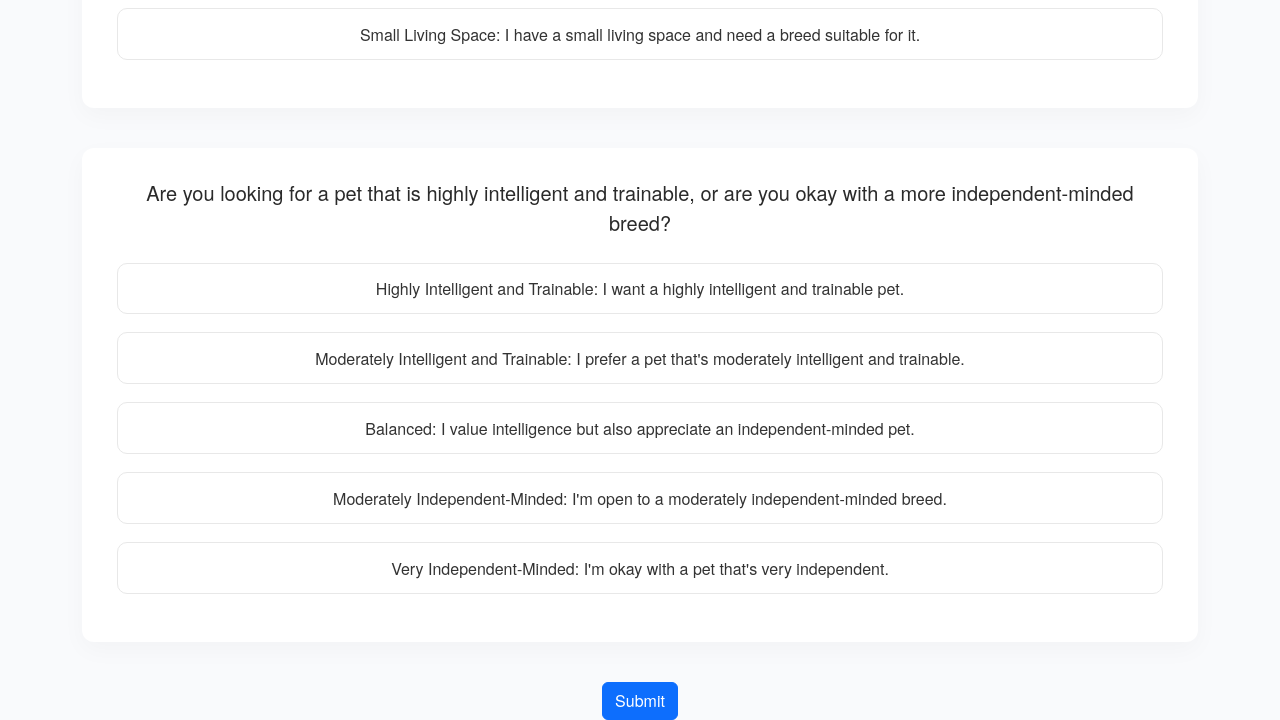
Test: submitting questionnaire › should navigate to recommendations
(page scrolled)
What coordinates should you click on to do the following:
click the button "Submit"
I would click on:
 (640, 701)
Its box is x1=602 y1=682 x2=678 y2=719.
(page scrolled)
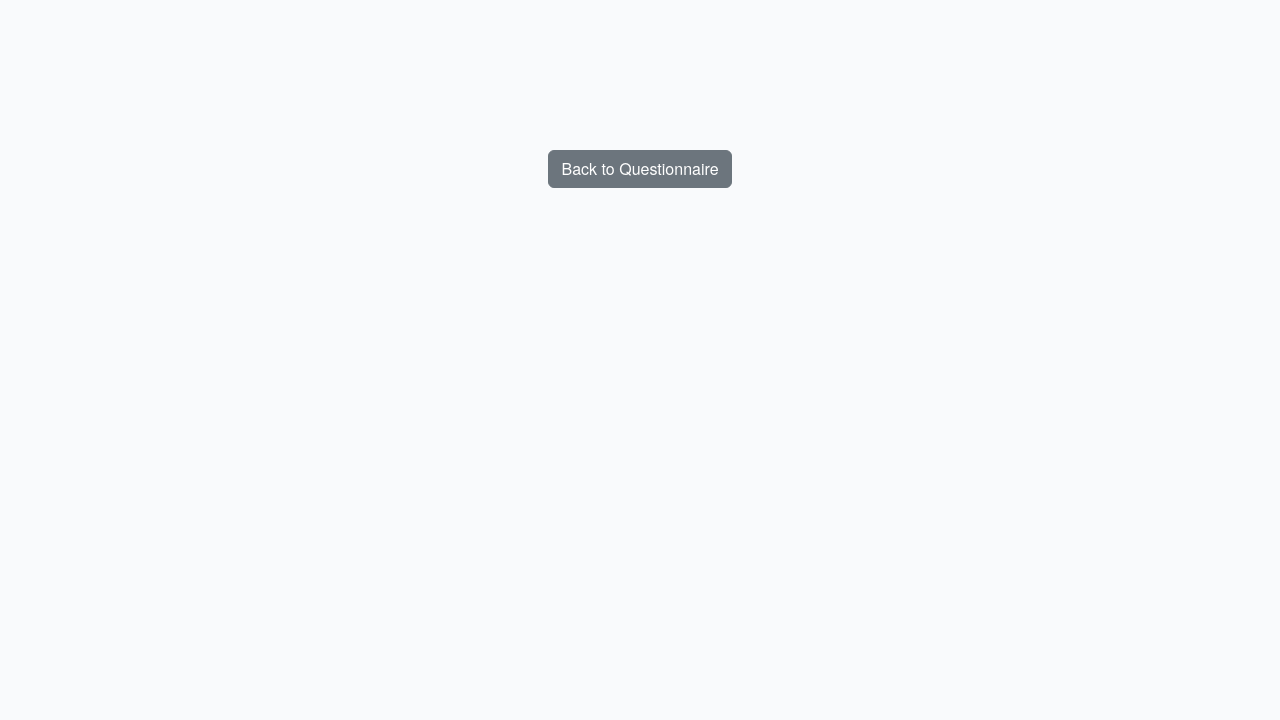
Result: the link "Back to Questionnaire" is shown at x1=548 y1=150 x2=732 y2=188
